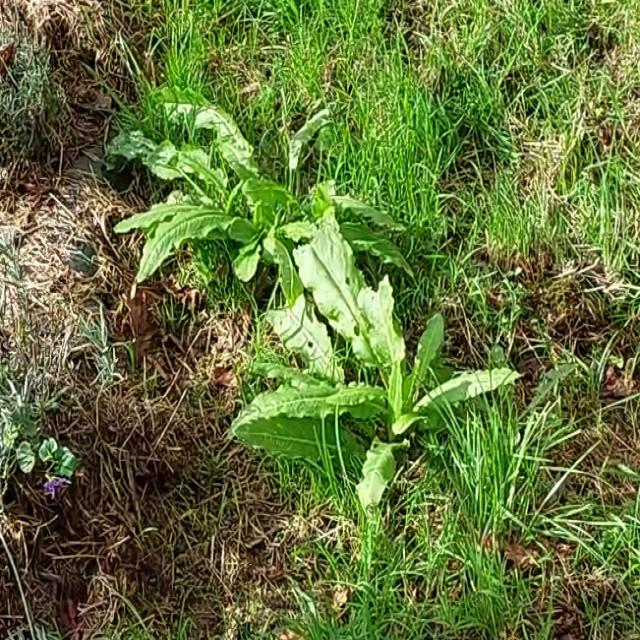organic waste: (200, 216, 506, 510), (65, 42, 356, 292)
